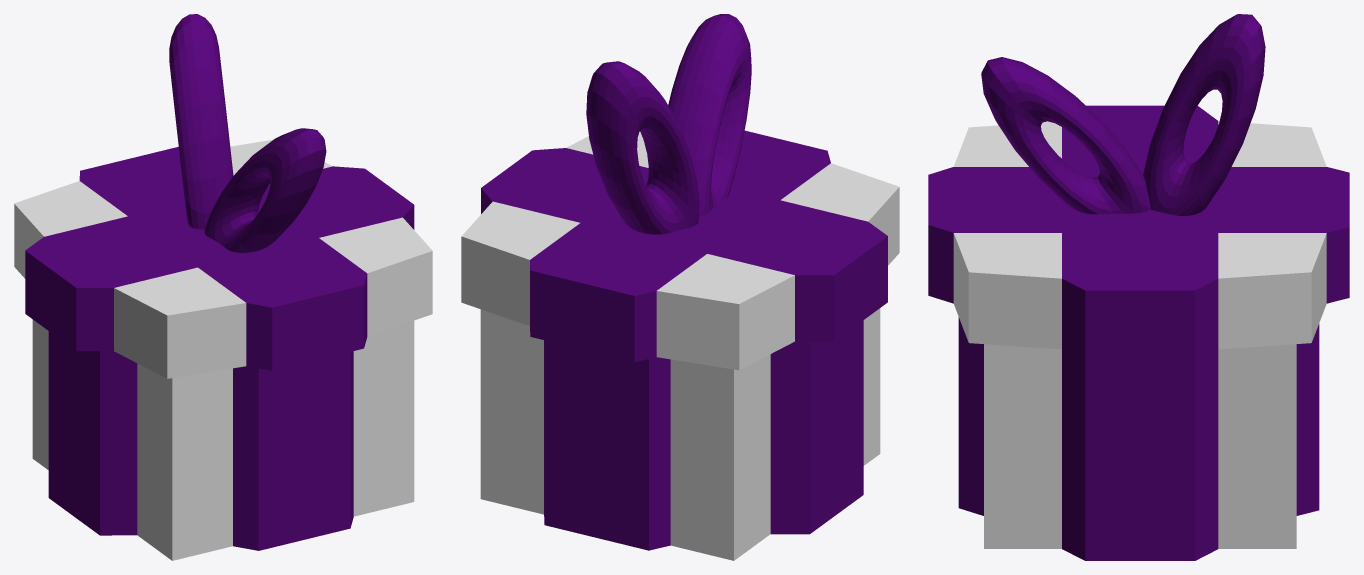
File: cadeau_4.fbx
3 views of the same model, side by side, from view 1: azimuth 30°, elevation 25°; view 2: azimuth 150°, elevation 25°; view 3: azimuth 270°, elevation 25° (orthographic). The views are drawn at different scales.
Parts seen in each view (by area): view 1: pCube2; view 2: pCube2; view 3: pCube2.
Part boxes in pixels (bbox=[...]): pCube2: bbox=[14, 14, 432, 560]; pCube2: bbox=[461, 14, 899, 560]; pCube2: bbox=[928, 14, 1349, 560].
Size of the model in its own units: 4.94 by 5.94 by 4.76.
